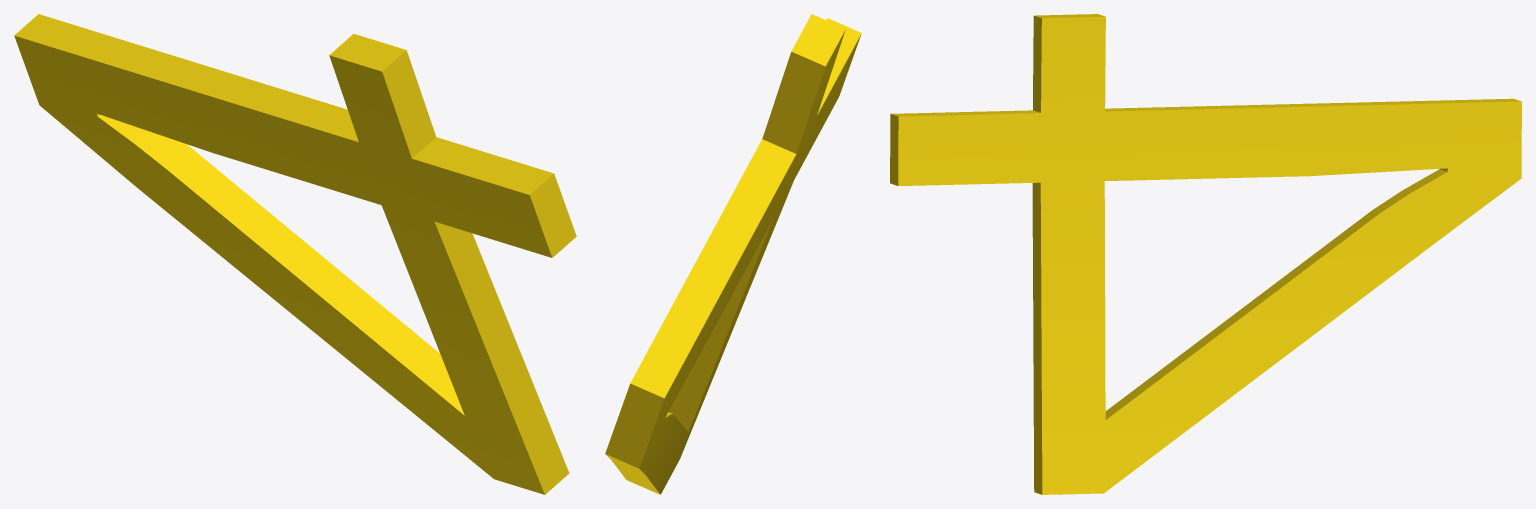
The model's file is Number_4.gltf.
The picture shows the model from 3 angles, left to right: view 1: azimuth 30°, elevation 25°; view 2: azimuth 150°, elevation 25°; view 3: azimuth 270°, elevation 25°; orthographic projection. The views are drawn at different scales.
Visible parts, largest first — view 1: Sub_8_Cell_3_3_Number_4; view 2: Sub_8_Cell_3_3_Number_4; view 3: Sub_8_Cell_3_3_Number_4.
Part boxes in pixels (bbox=[...]): Sub_8_Cell_3_3_Number_4: bbox=[14, 14, 576, 494]; Sub_8_Cell_3_3_Number_4: bbox=[605, 14, 861, 494]; Sub_8_Cell_3_3_Number_4: bbox=[890, 14, 1521, 494].
Bounding box in the file's own units: 0.0114 × 0.0182 × 0.0247.
